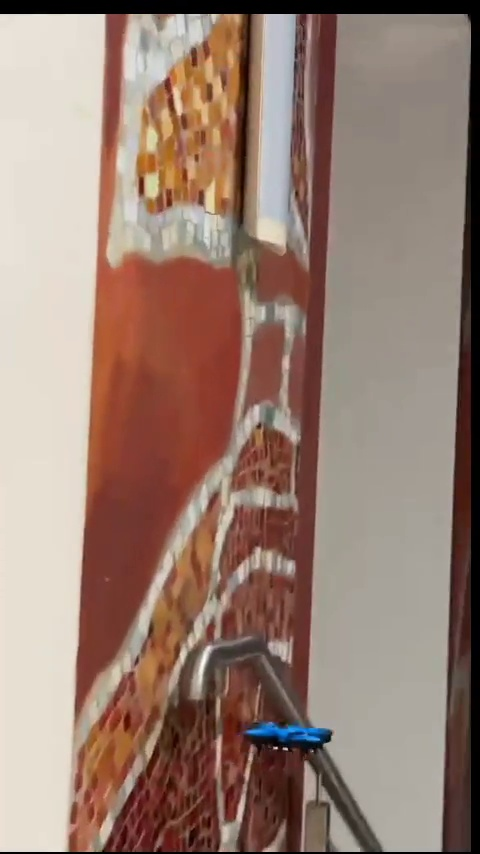drone: (245, 718, 332, 750)
